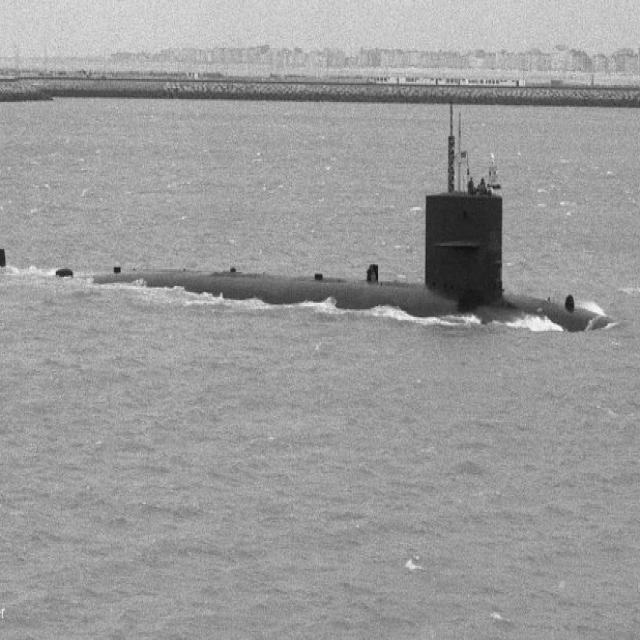submarine: (1, 106, 616, 329)
